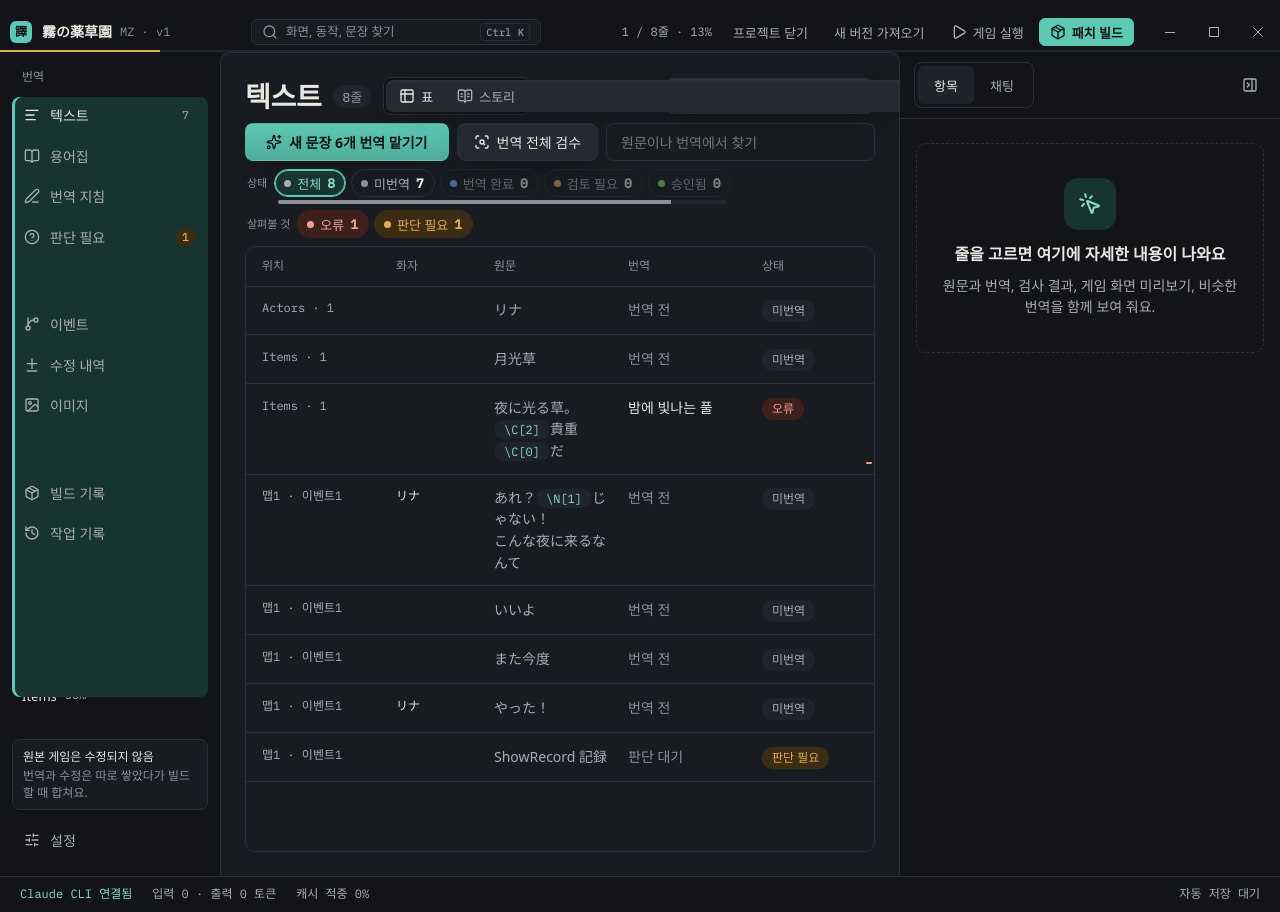
Scenario: 승인할 대상이 없으면 장면 승인을 누를 수 없다
Check: the text "霧の薬草園" is shown, box [42,21,112,43]
Click the button "스토리" at (486, 96), box [445,81,527,111]
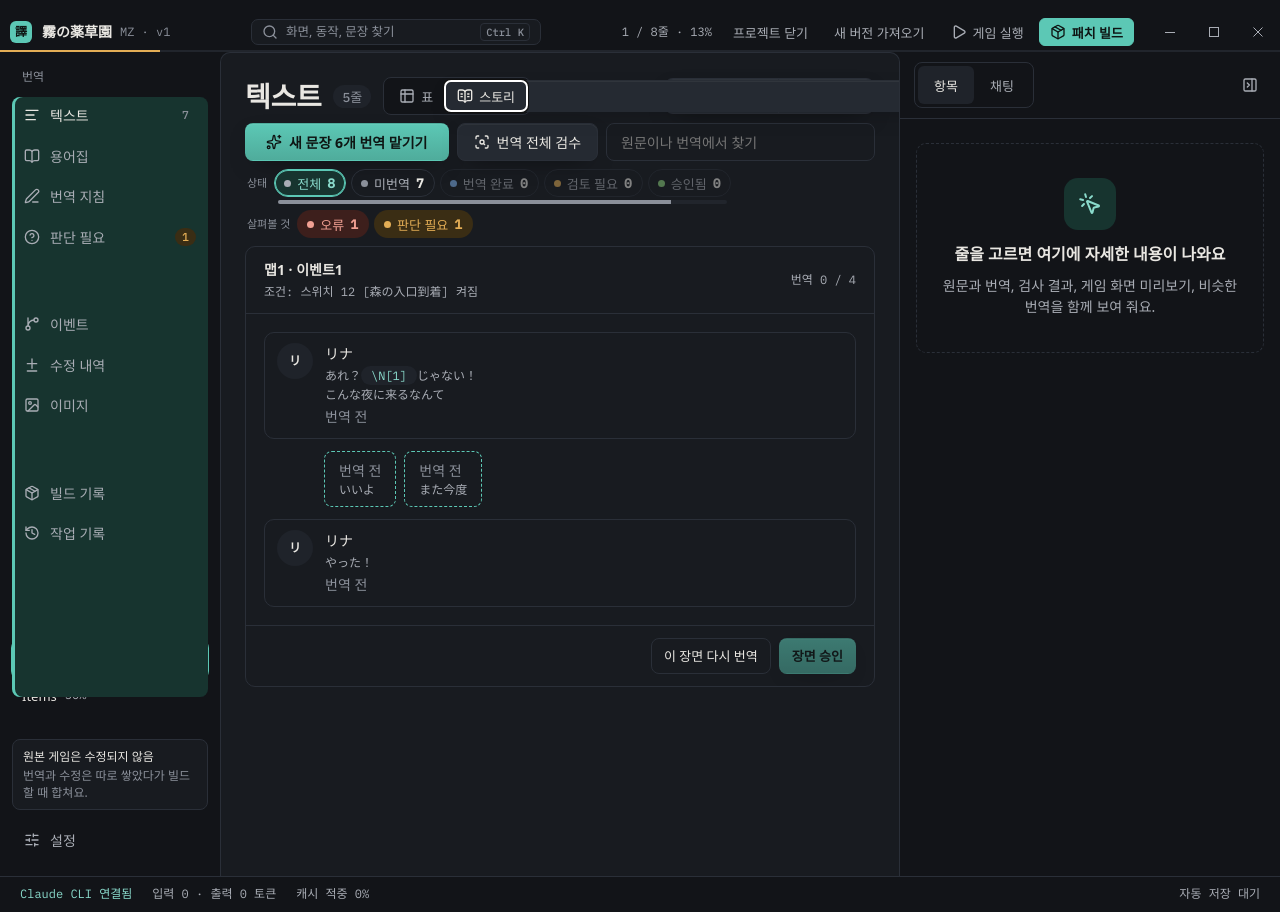
Check: the text "맵1 · 이벤트1" is shown, box [264,260,343,279]
Check: the button "장면 승인" is disabled, box [779,638,856,674]
